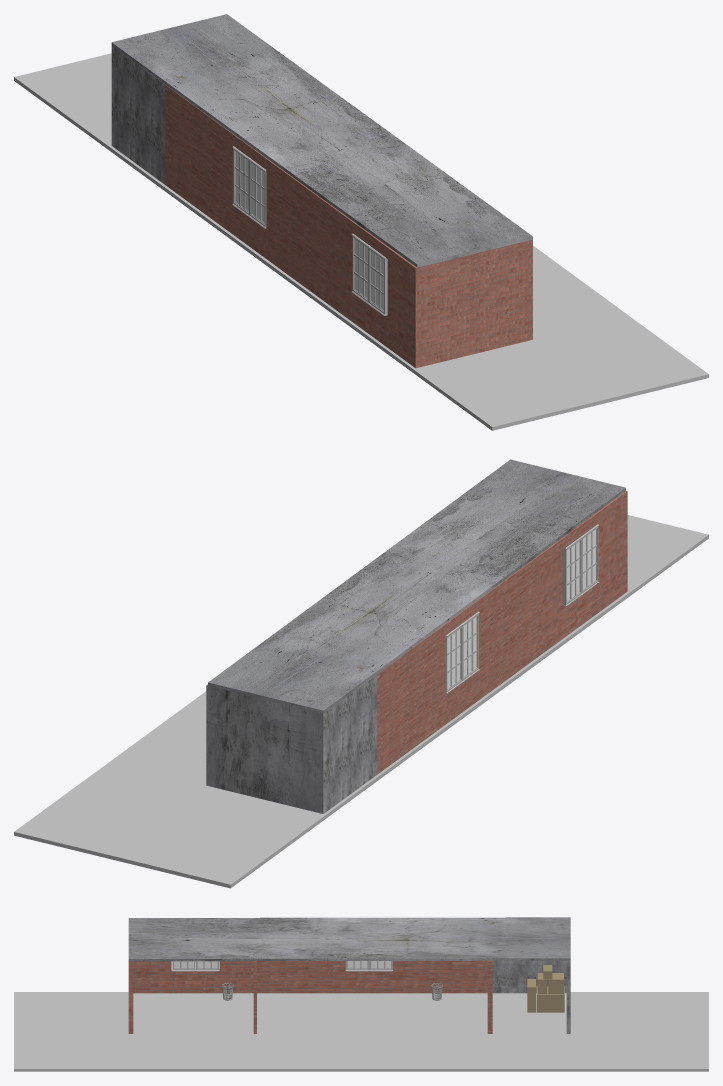
File: sala.fbx
3 renders of one model, top to bottom at view 1: azimuth 30°, elevation 25°; view 2: azimuth 150°, elevation 25°; view 3: azimuth 270°, elevation 25°, orthographic. The views are drawn at different scales.
Visible parts, largest first — view 1: Plane, Plane.027, Cube.008, Cube.002, Cube.007, ind_window_01_inst_001.001, ind_window_01_inst_001; view 2: Plane, Plane.027, Cube.007, Cube.002, Cube.008, ind_window_01_inst_001.001, ind_window_01_inst_001; view 3: Plane.027, Plane, Cube.002, Cube.008, Cube.007, Cube, ind_window_01_inst_001, ind_window_01_inst_001.001, Cube.001, Cube.003.
Part boxes in pixels (<box>): Plane: <box>111,14,532,267</box>; Plane.027: <box>14,53,708,430</box>; Cube.008: <box>329,205,532,368</box>; Cube.002: <box>165,85,330,304</box>; Cube.007: <box>111,46,165,184</box>; ind_window_01_inst_001.001: <box>351,233,387,315</box>; ind_window_01_inst_001: <box>232,146,266,228</box>; Plane: <box>208,459,625,713</box>; Plane.027: <box>14,515,708,888</box>; Cube.007: <box>206,675,377,813</box>; Cube.002: <box>377,554,541,774</box>; Cube.008: <box>541,491,627,653</box>; ind_window_01_inst_001.001: <box>563,524,599,606</box>; ind_window_01_inst_001: <box>445,611,479,694</box>; Plane.027: <box>14,992,708,1071</box>; Plane: <box>128,917,570,961</box>; Cube.002: <box>253,960,492,1033</box>; Cube.008: <box>128,961,253,1033</box>; Cube.007: <box>492,960,570,1033</box>; Cube: <box>536,986,564,1012</box>; ind_window_01_inst_001: <box>345,961,392,971</box>; ind_window_01_inst_001.001: <box>172,961,219,971</box>; Cube.001: <box>548,973,563,993</box>; Cube.003: <box>527,979,535,1012</box>.
Size of the model in its own units: 1354 by 642 by 5175.
